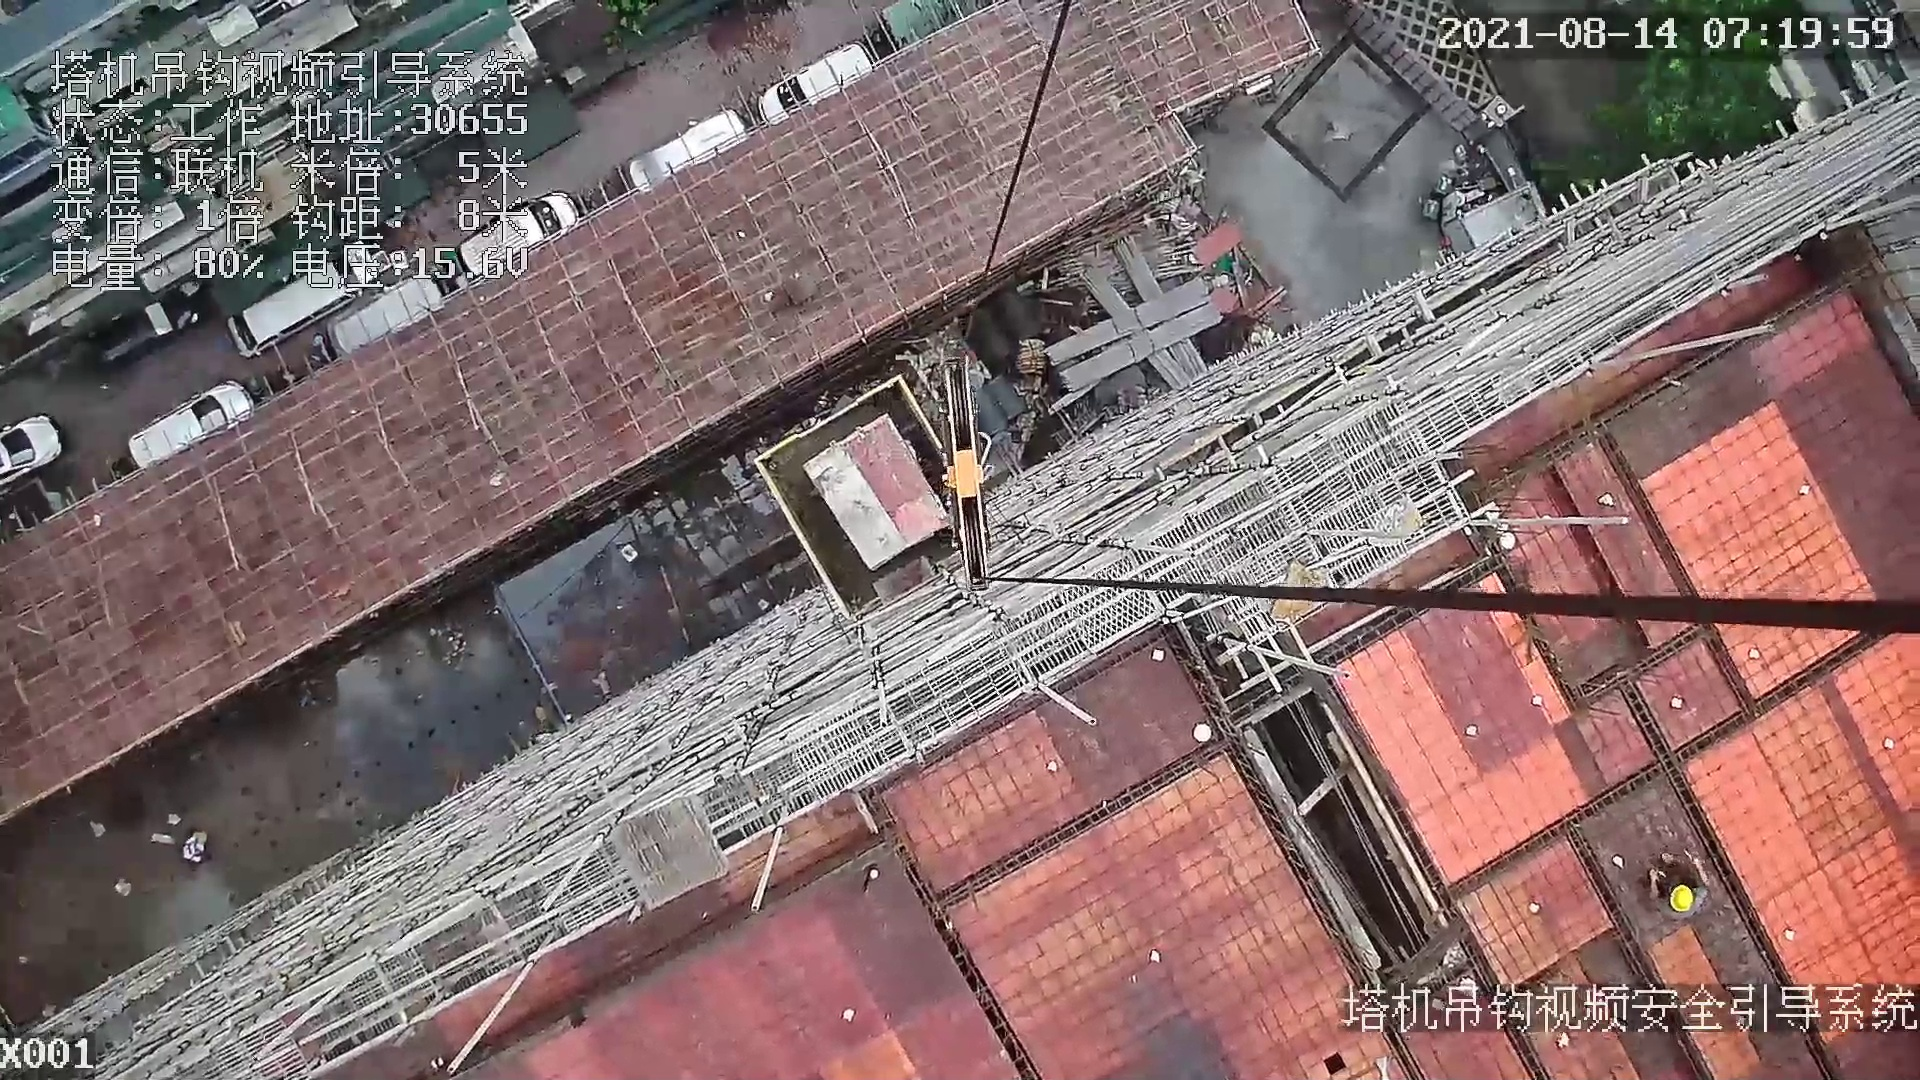helmet: (1668, 880, 1694, 918)
hook: (932, 359, 995, 596)
person: (1633, 845, 1706, 927)
